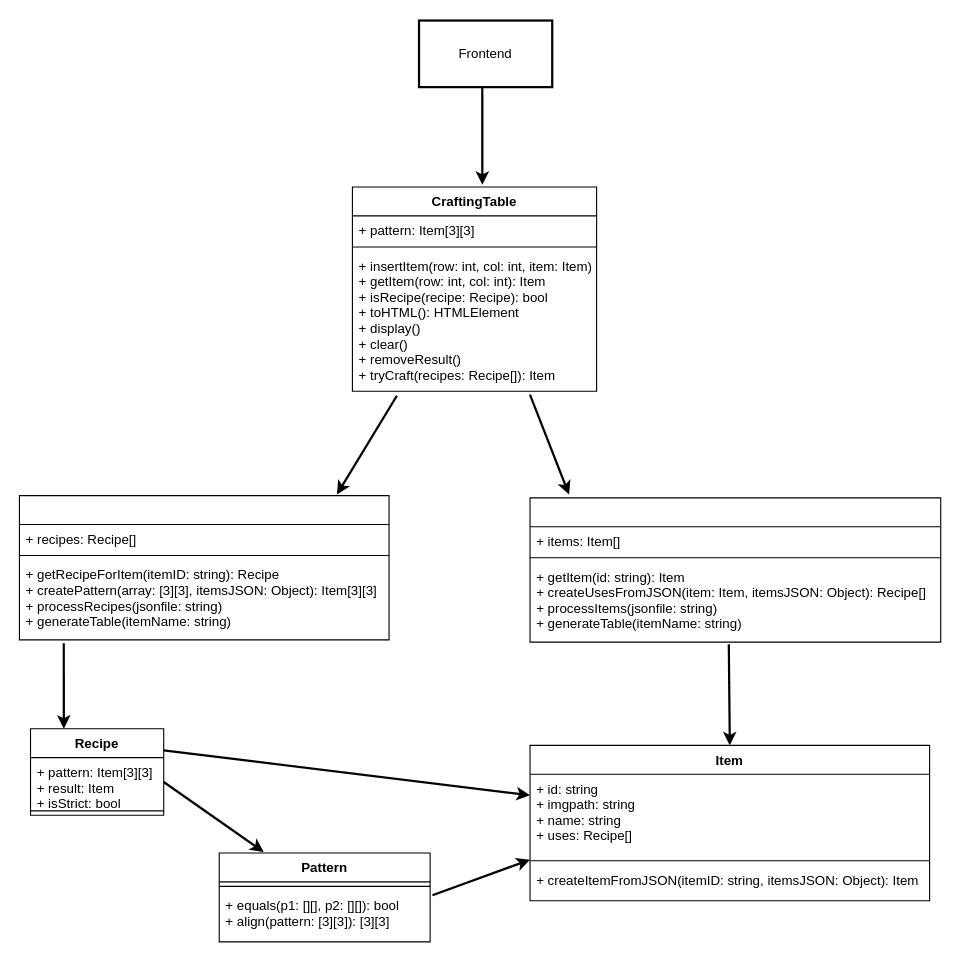
This 960x963 diagram has some shape labels left out. Each missing label, with the box of its shape:
ItemList: (529, 497, 941, 642)
RecipeList: (18, 495, 389, 640)
